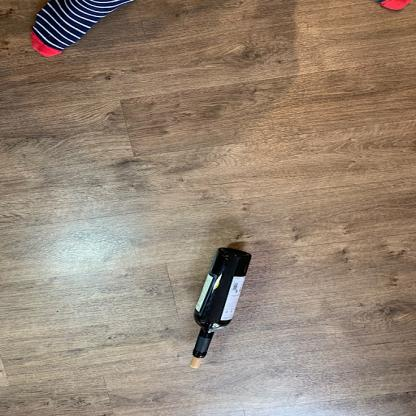trash: (188, 244, 254, 368)
